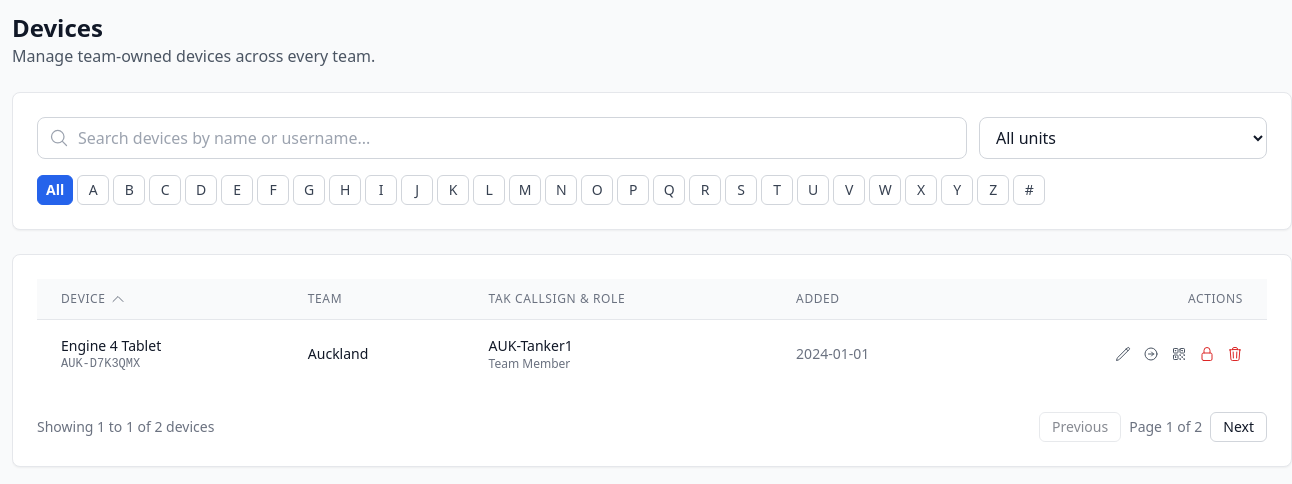
Scenario: Devices page › pagination › requests the next page from devicesAPI.getAll when Next is clicked
What coordinates should you click on to do the following:
click the button "Next"
I would click on:
 (1239, 427)
Its box is [1210,412,1267,442].
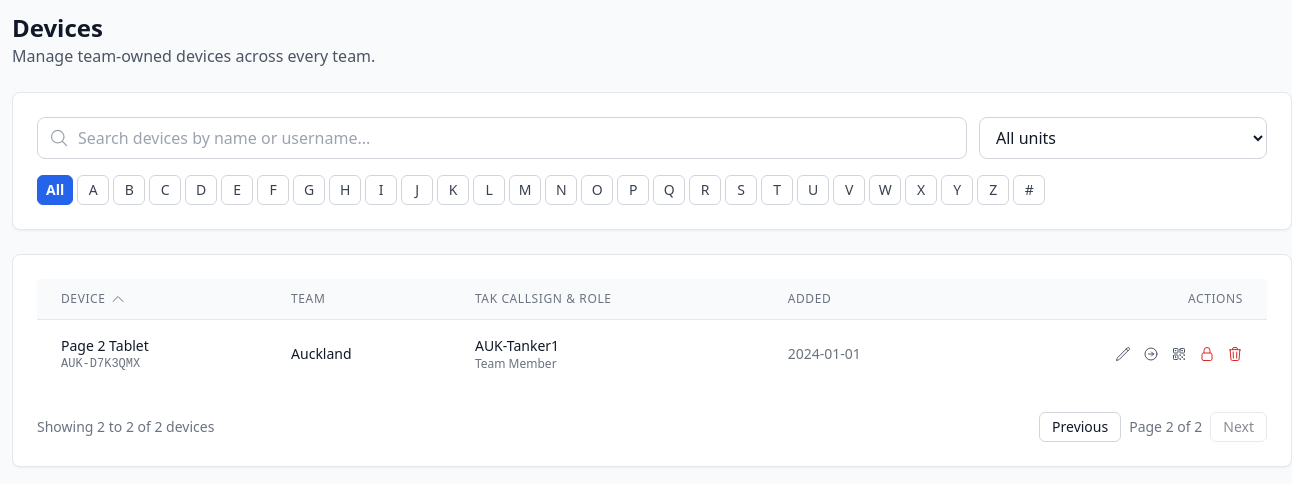
Now the text "Page 2 Tablet" is shown, box [61,336,149,355]
